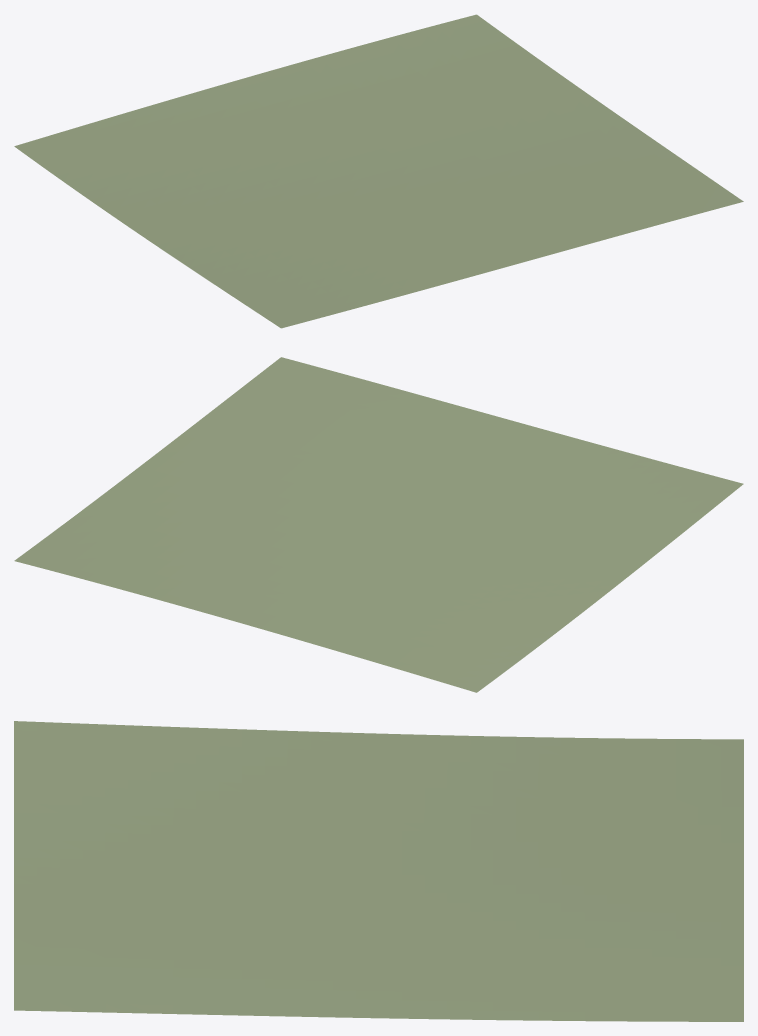
The model's file is expanse-28-16.glb.
3 views of the same model, one above another, from view 1: azimuth 30°, elevation 25°; view 2: azimuth 150°, elevation 25°; view 3: azimuth 270°, elevation 25° (orthographic). The views are drawn at different scales.
Parts seen in each view (by area): view 1: expanse-28-16; view 2: expanse-28-16; view 3: expanse-28-16.
Boxes of the visible parts, <box> form: expanse-28-16: <box>14,14,743,328</box>; expanse-28-16: <box>14,357,743,692</box>; expanse-28-16: <box>14,721,743,1021</box>.
Bounding box in the file's own units: 256 × 14.42 × 256.
